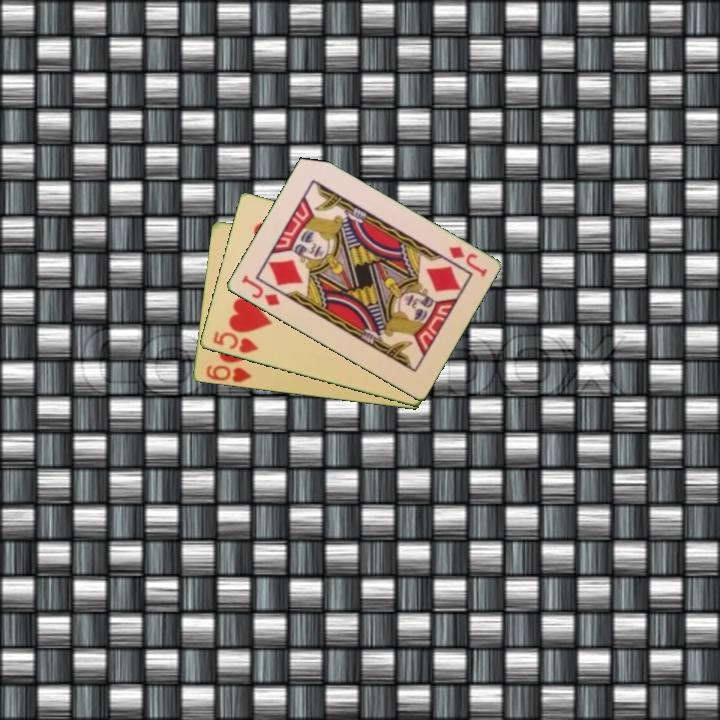5h: (209, 328, 261, 356)
6h: (202, 362, 254, 386)
Jd: (237, 271, 282, 309), (445, 243, 490, 280)
